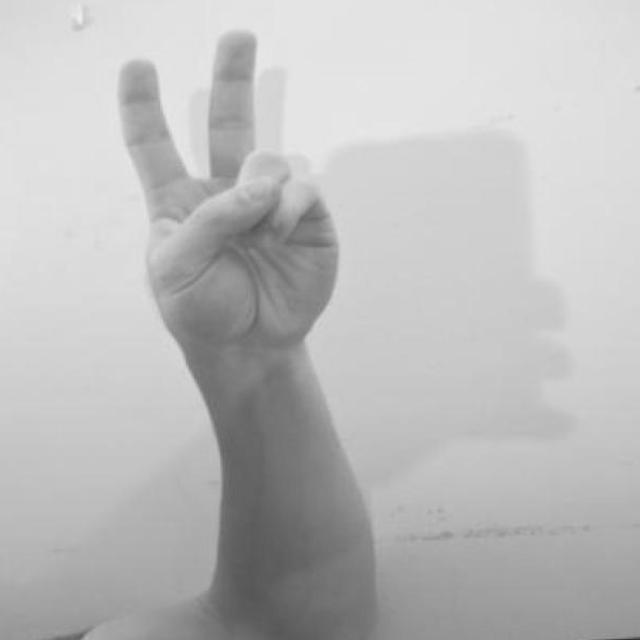V: (106, 32, 359, 640)
